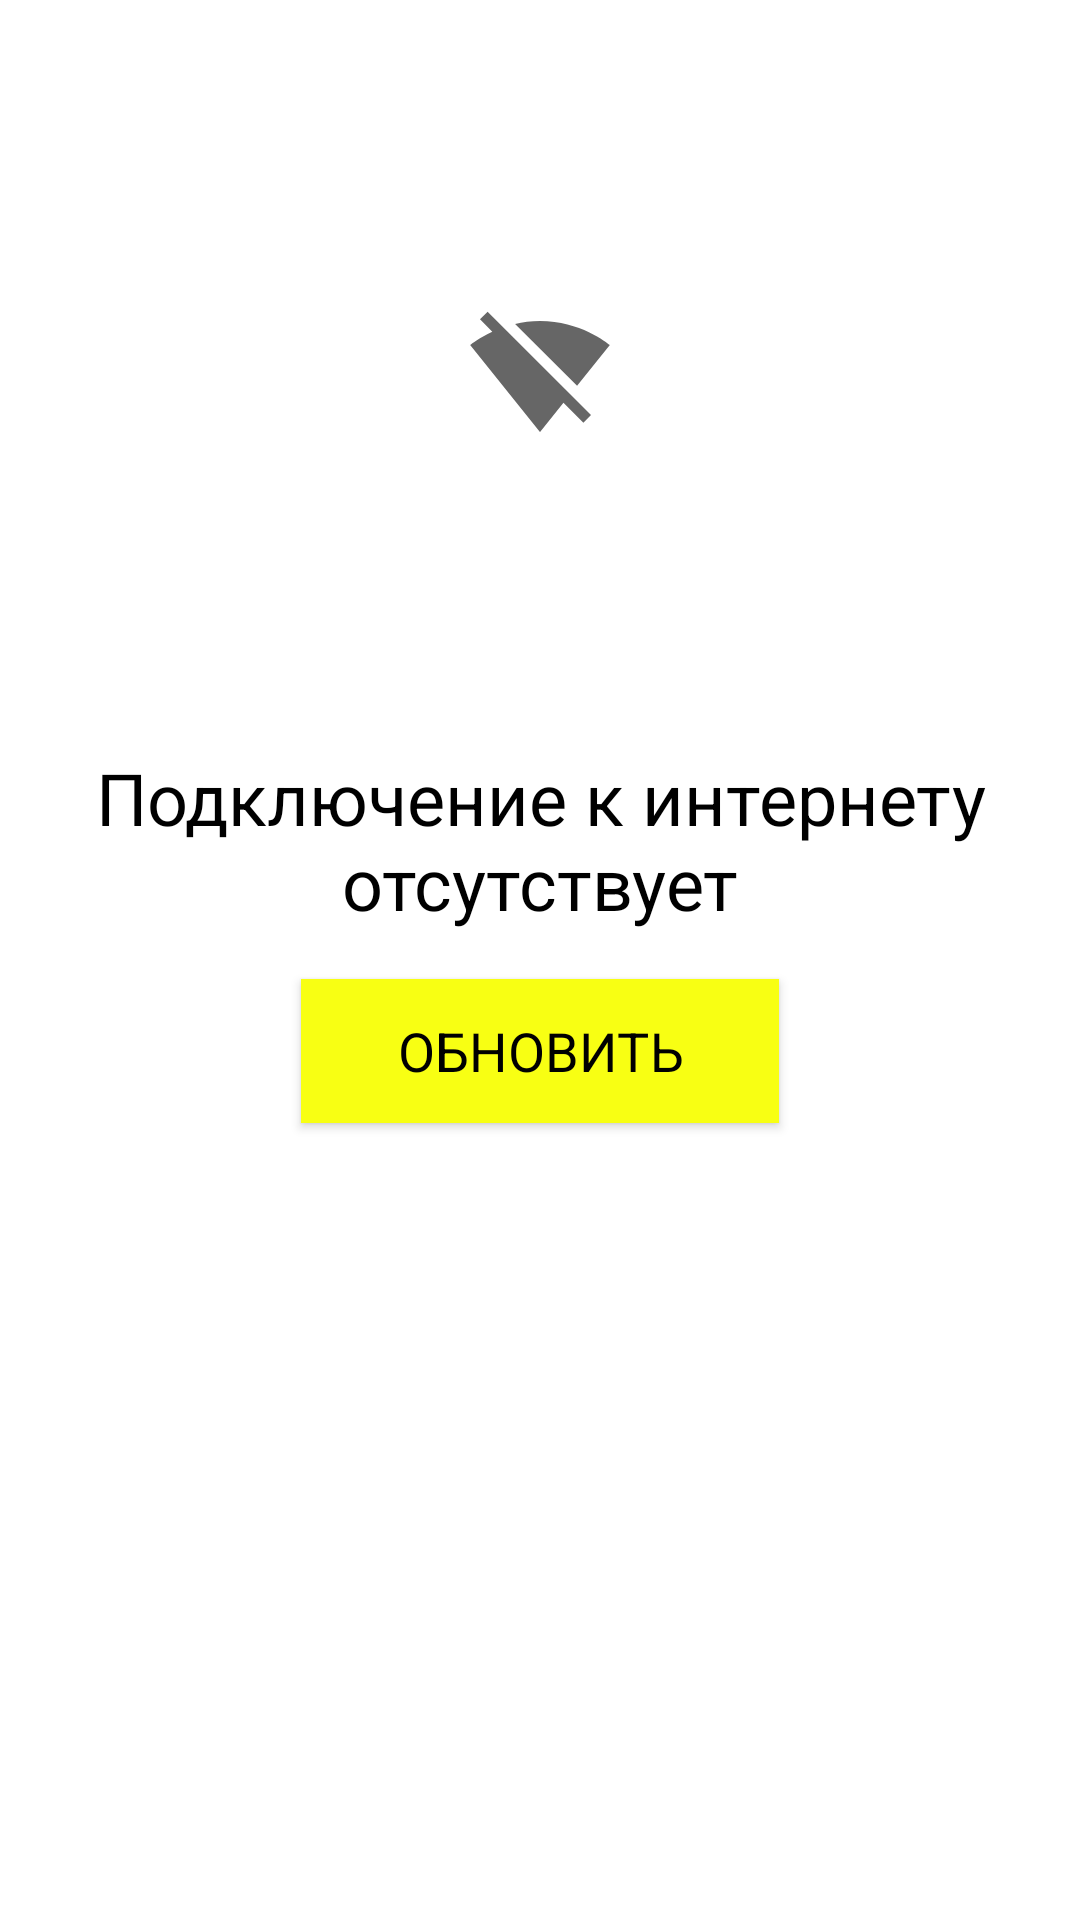

Screen size 1080x1920. Icon name, then its box in pixels as bbox=(x1, y1, x2, y2):
Картинка "Нет интернета": bbox=(470, 312, 610, 432)
